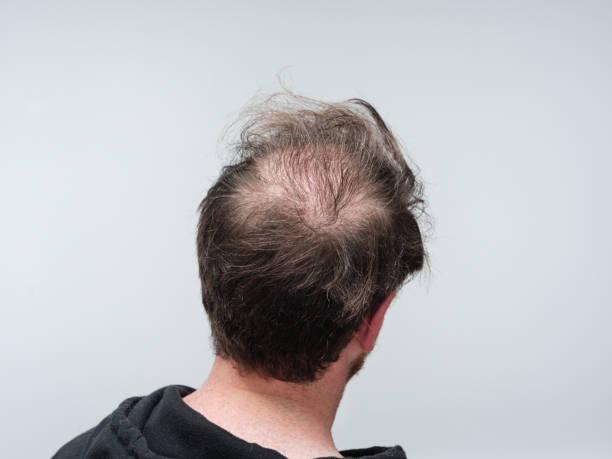dry hair: (215, 244, 289, 290), (337, 103, 397, 153), (240, 77, 305, 111), (335, 272, 374, 323), (282, 137, 346, 163), (405, 170, 433, 213)
low hair density: (249, 169, 325, 202), (334, 181, 387, 226)
